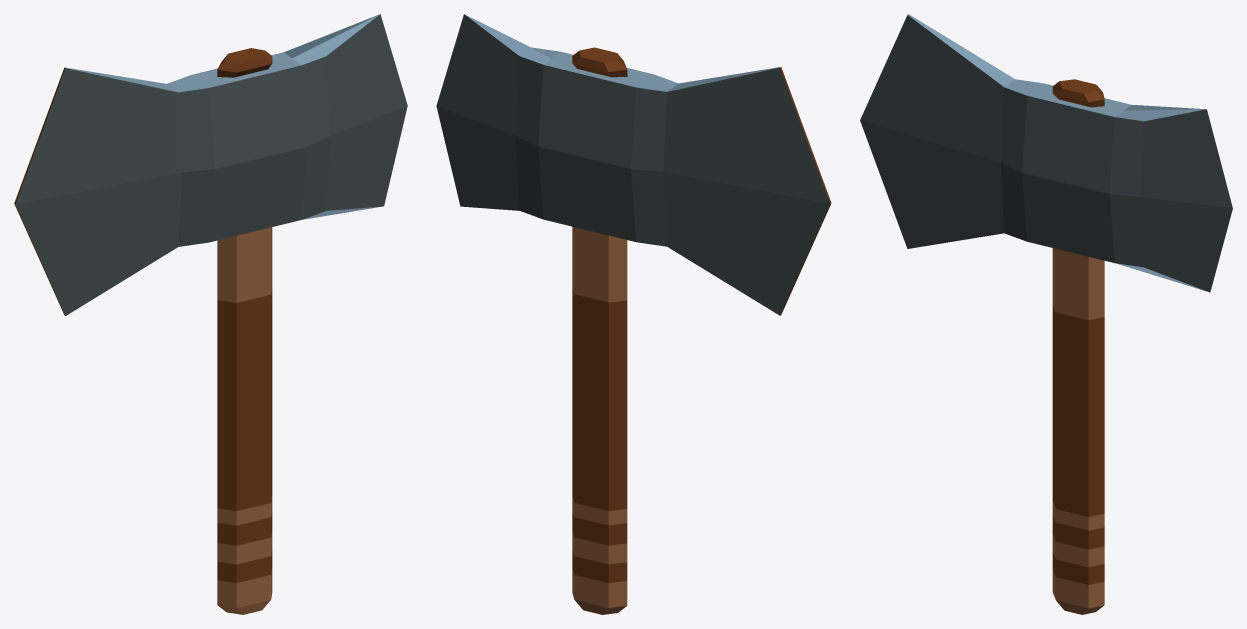
Rendered from Hacha.fbx.
3 renders of one model, left to right at view 1: azimuth 30°, elevation 25°; view 2: azimuth 150°, elevation 25°; view 3: azimuth 330°, elevation 25°, orthographic. The views are drawn at different scales.
Visible parts, largest first — view 1: Cube; view 2: Cube; view 3: Cube.
Part boxes in pixels (x1,y1,x2,y2): Cube: [14, 14, 407, 614]; Cube: [436, 14, 831, 614]; Cube: [860, 14, 1232, 614].
Bounding box in the file's own units: 53.5 × 75.92 × 6.84.
